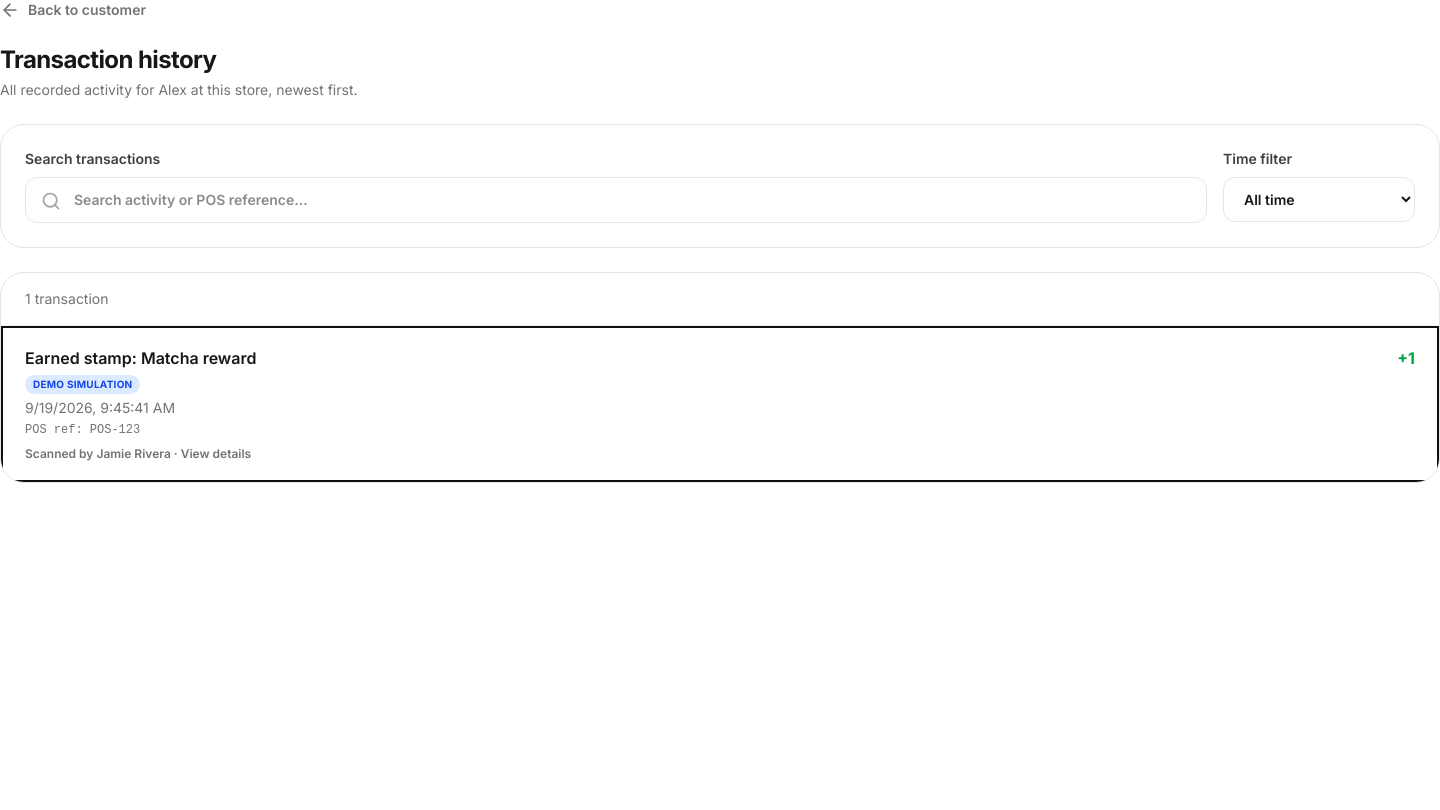
Test: customer transaction history › opens recorded transaction details and restores focus when dismissed
The image size is (1440, 810).
Click the button "Earned stamp: Matcha reward". click: click(720, 404)
box: [1,326,1439,482]
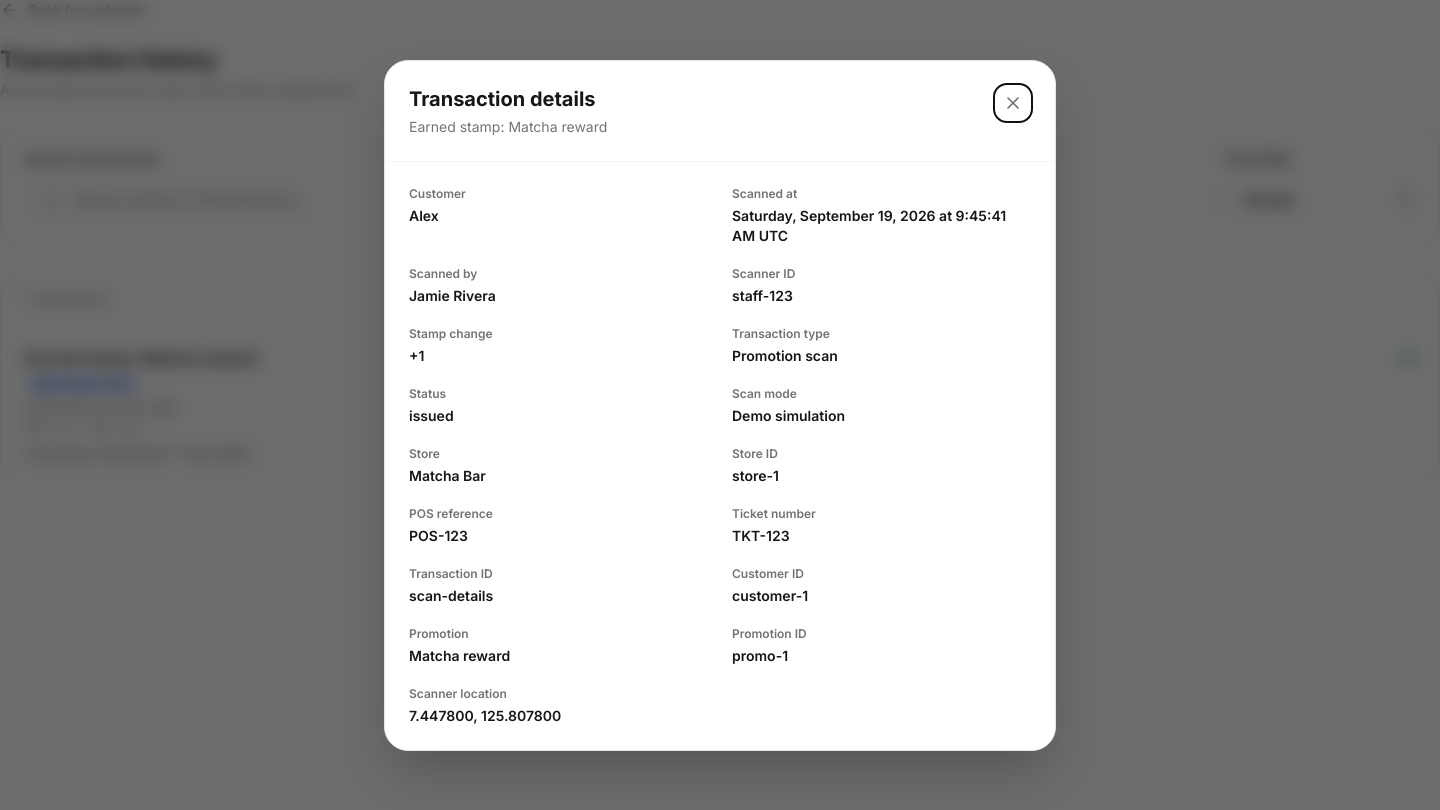
Check: the text "Jamie Rivera" is shown, box [409,286,496,304]
Check: the text "staff-123" is shown, box [732,286,793,304]
Check: the text "TKT-123" is shown, box [732,526,790,544]
Press Escape
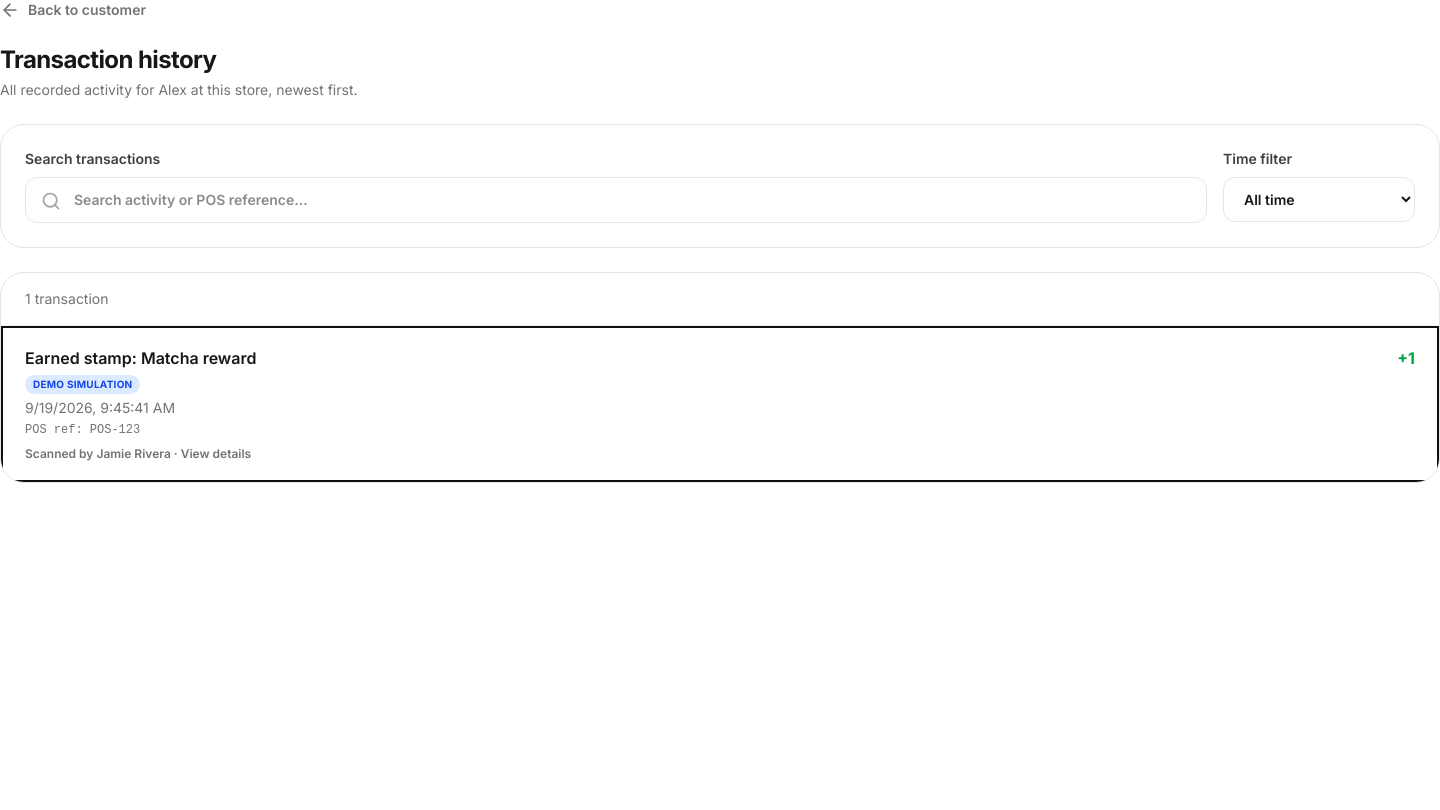
Check: the dialog is gone
Click the button "Earned stamp: Matcha reward". click: click(720, 404)
box: [1,326,1439,482]
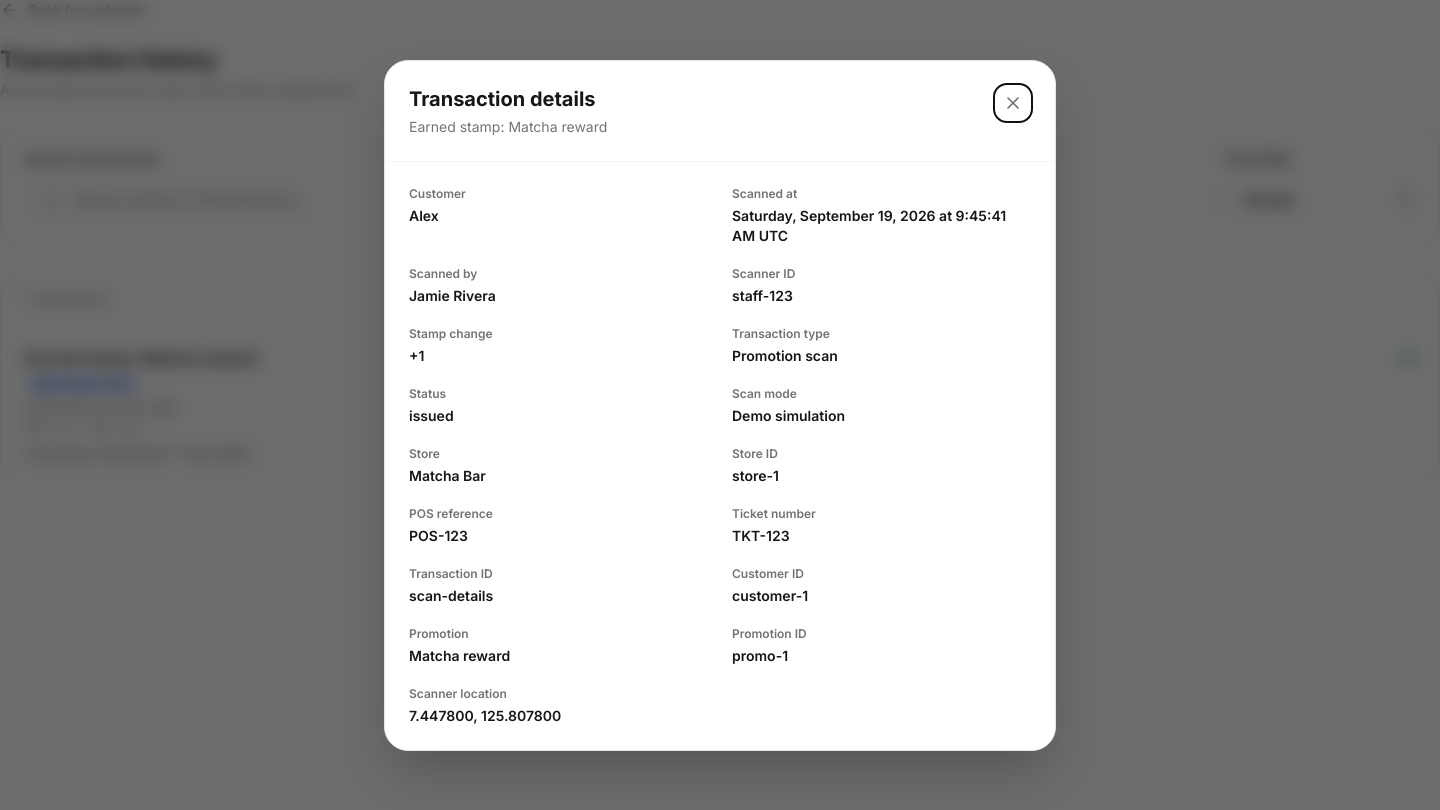
Click the button named "Close transaction details". click: click(1013, 102)
box: [995,84,1031,120]
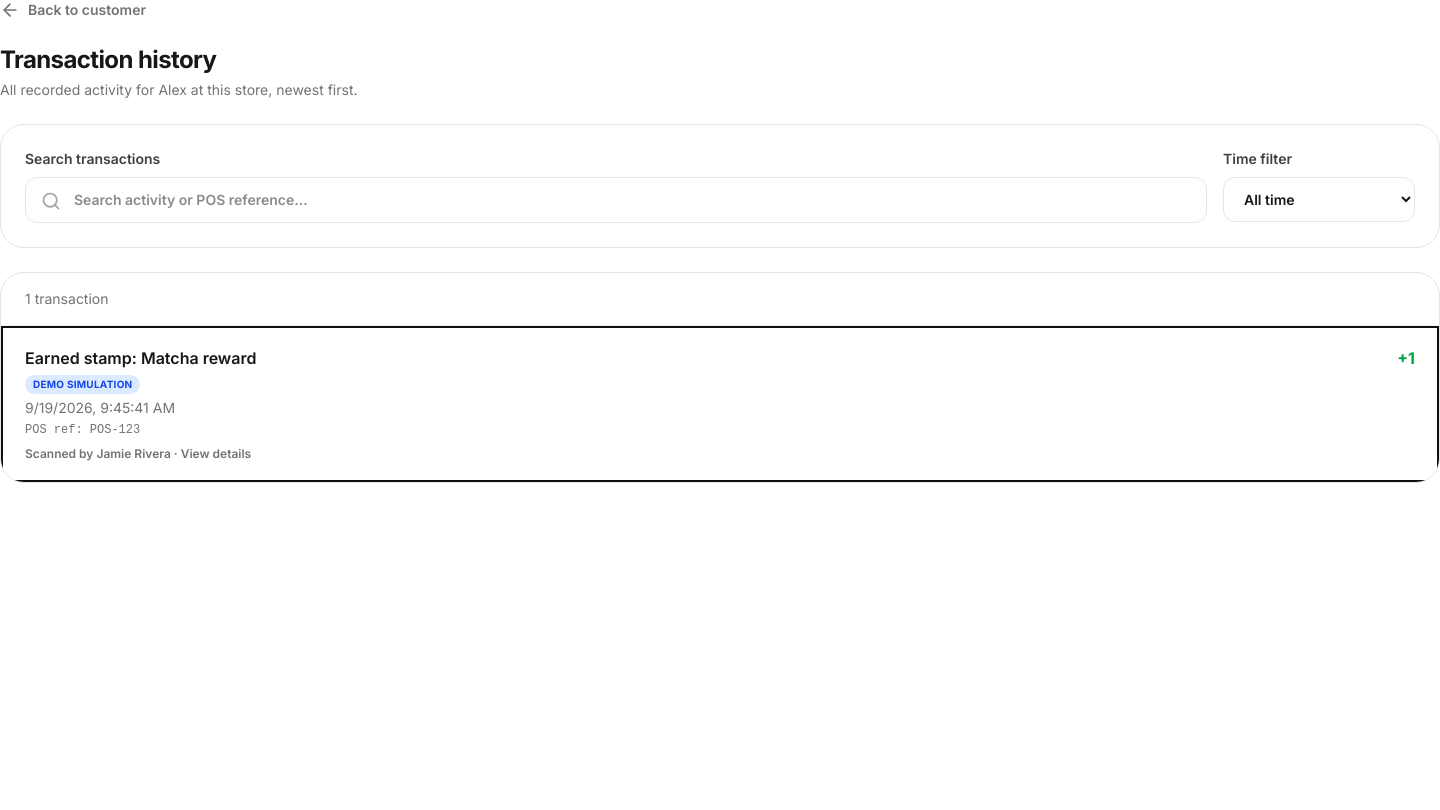
Check: the dialog is gone
